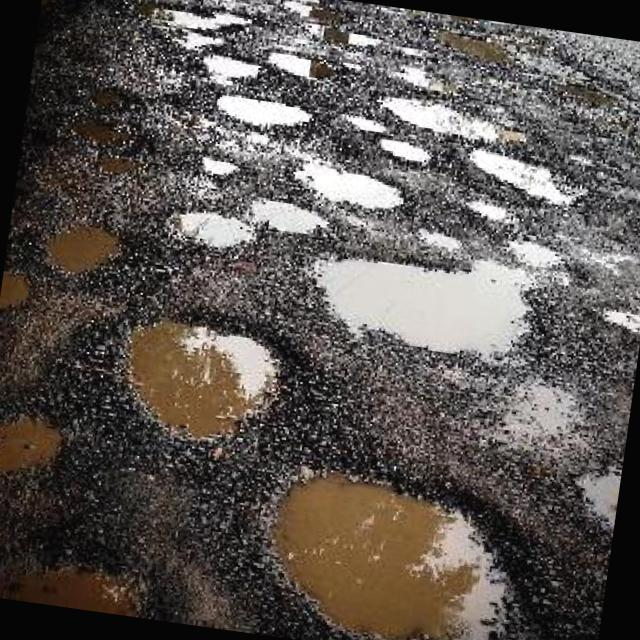pothole: (248, 451, 550, 640), (294, 236, 556, 375), (111, 302, 296, 450), (0, 517, 200, 623), (371, 84, 533, 150), (0, 387, 89, 488), (459, 142, 588, 204), (38, 208, 136, 284), (288, 152, 414, 210), (140, 0, 260, 54), (160, 202, 264, 258), (217, 85, 319, 132), (561, 456, 623, 531), (245, 192, 337, 238), (256, 44, 344, 82), (198, 48, 264, 82), (379, 134, 436, 166), (1, 265, 38, 308), (198, 150, 242, 180)
